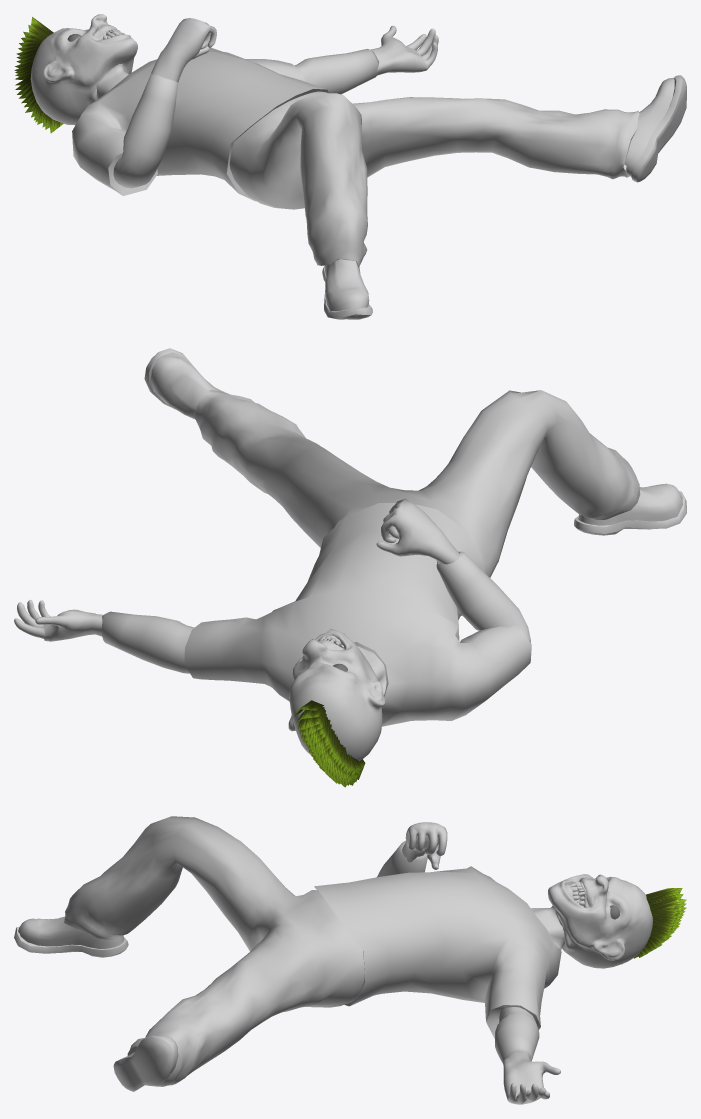
The model's file is Dead (55).obj.
The picture shows the model from 3 angles, top to bottom: view 1: azimuth 30°, elevation 25°; view 2: azimuth 150°, elevation 25°; view 3: azimuth 270°, elevation 25°; orthographic projection. The views are drawn at different scales.
Parts seen in each view (by area): view 1: pants, shirt, head, forearm_band_01, boots001, forearm_band_002, boots, hand_right, hand_left, Hair, neck; view 2: shirt, pants, head, forearm_band_01, forearm_band_002, hand_right, boots, boots001, Hair, hand_left; view 3: pants, shirt, head, boots, boots001, hand_left, forearm_band_002, Hair, hand_right, forearm_band_01, neck.
Part boxes in pixels (<box>): pants: <box>229,91,639,267</box>; shirt: <box>72,47,328,201</box>; head: <box>30,14,137,125</box>; forearm_band_01: <box>113,73,178,188</box>; boots001: <box>625,75,686,182</box>; forearm_band_002: <box>294,49,379,94</box>; boots: <box>322,259,372,319</box>; hand_right: <box>151,18,216,82</box>; hand_left: <box>370,25,438,75</box>; Hair: <box>14,17,63,133</box>; neck: <box>96,64,128,99</box>; shirt: <box>184,503,531,726</box>; pants: <box>195,390,640,577</box>; head: <box>288,629,385,761</box>; forearm_band_01: <box>436,551,530,642</box>; forearm_band_002: <box>101,611,194,673</box>; hand_right: <box>376,498,459,564</box>; boots: <box>574,483,686,535</box>; boots001: <box>144,348,229,419</box>; Hair: <box>294,700,365,787</box>; hand_left: <box>14,600,103,641</box>; pants: <box>64,816,364,1086</box>; shirt: <box>314,866,561,1038</box>; head: <box>548,874,652,968</box>; boots: <box>14,916,128,957</box>; boots001: <box>113,1034,178,1091</box>; hand_left: <box>503,1051,560,1104</box>; forearm_band_002: <box>495,1007,539,1063</box>; Hair: <box>627,888,686,961</box>; hand_right: <box>402,822,447,869</box>; forearm_band_01: <box>377,840,427,877</box>; neck: <box>531,906,564,950</box>.
Size of the model in its own units: 143 by 52.09 by 180.
